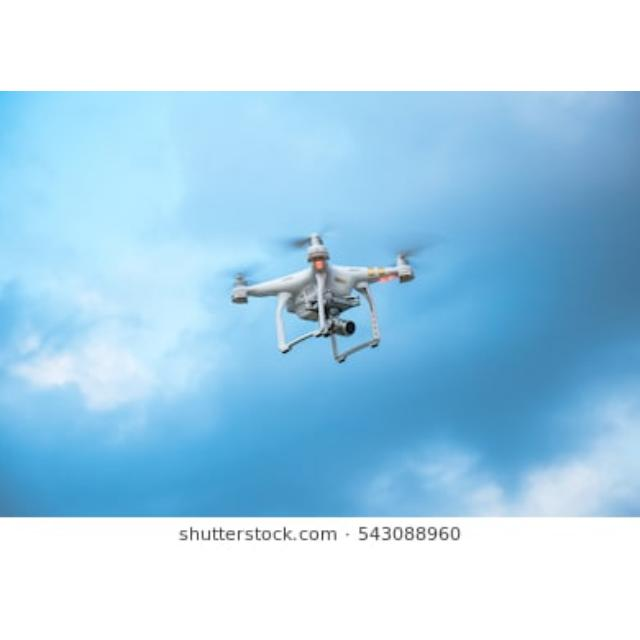Drones: (231, 246, 415, 368)
